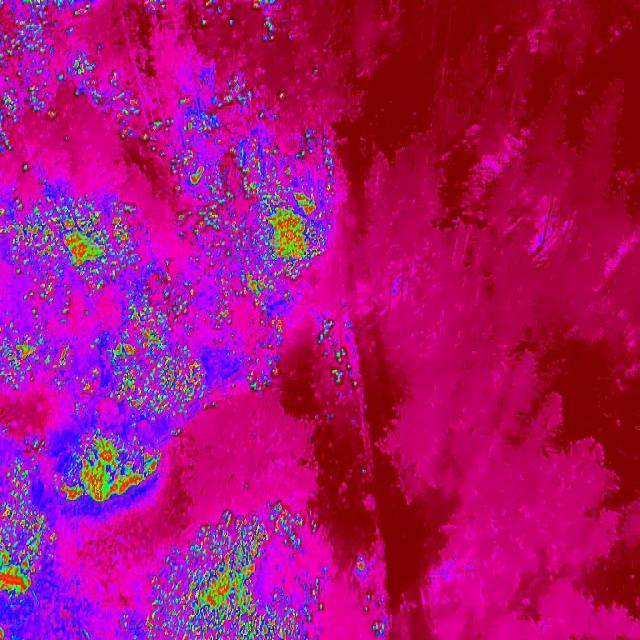fire: (144, 500, 330, 640), (233, 137, 335, 309), (98, 278, 208, 424), (0, 195, 141, 300), (56, 64, 169, 148), (161, 137, 235, 259), (52, 428, 160, 508), (0, 307, 75, 395), (0, 0, 95, 68), (169, 72, 268, 137), (0, 502, 56, 608), (240, 308, 298, 398), (0, 66, 56, 152), (198, 0, 296, 44), (316, 315, 360, 389), (0, 430, 44, 504), (202, 259, 235, 332), (363, 591, 392, 640), (77, 369, 102, 396), (352, 553, 369, 579), (138, 0, 171, 12), (0, 626, 7, 640)
